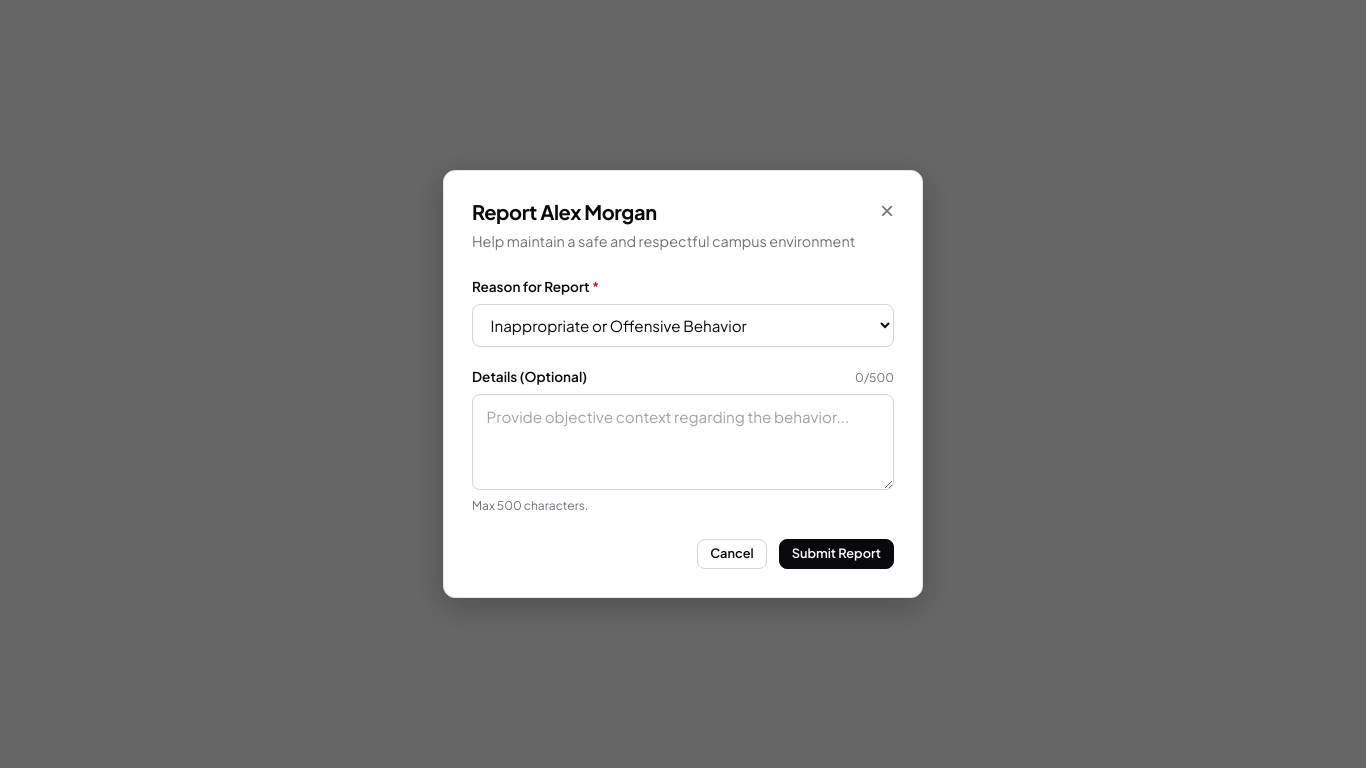
it: Modal Integration Tests › ReportModal › submits report with selected reason and description, showing success confirmation
Select "Harassment or Bullying" in the dropdown labelled "Reason for Report *" at (683, 326), box left=472, top=304, right=894, bottom=348
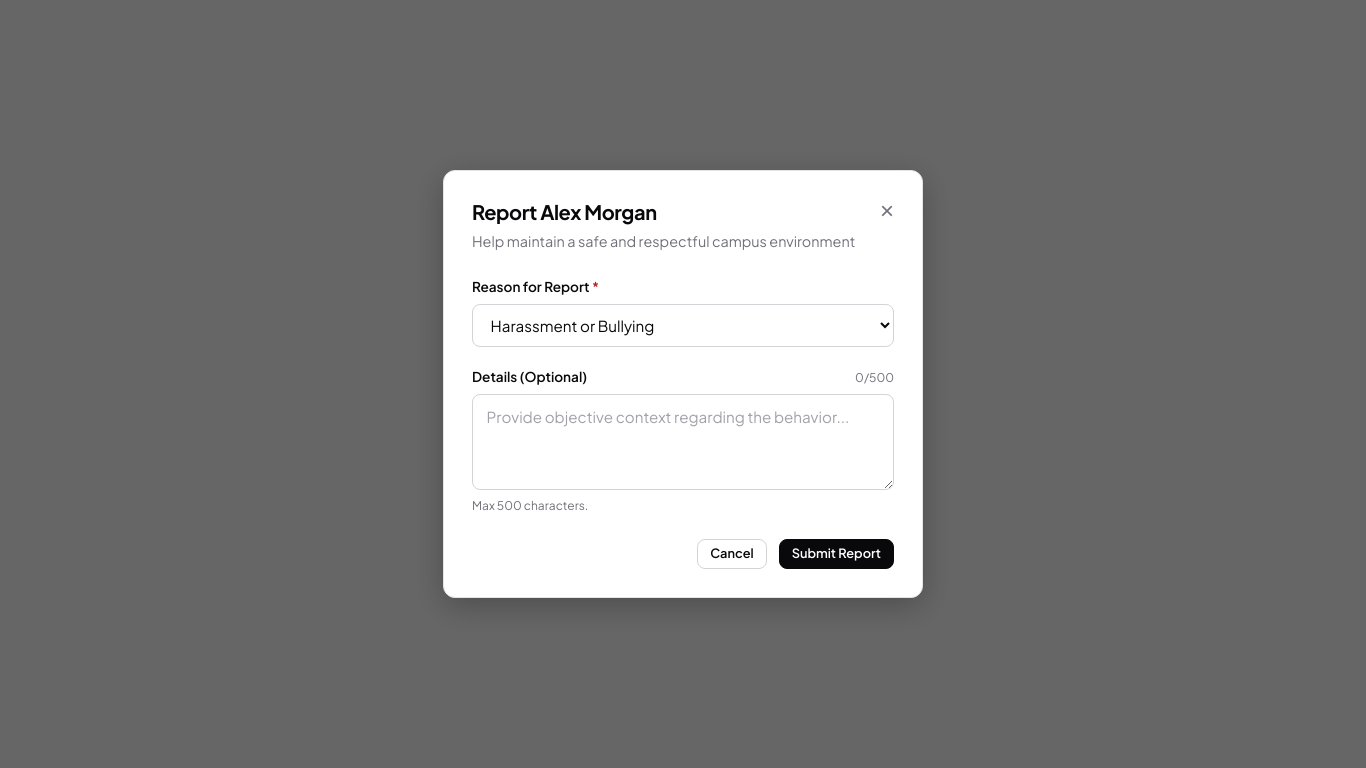
Type "Inappropriate messages sent." into the text box labelled "Details (Optional) 0/500" at (683, 442), box left=472, top=394, right=894, bottom=490
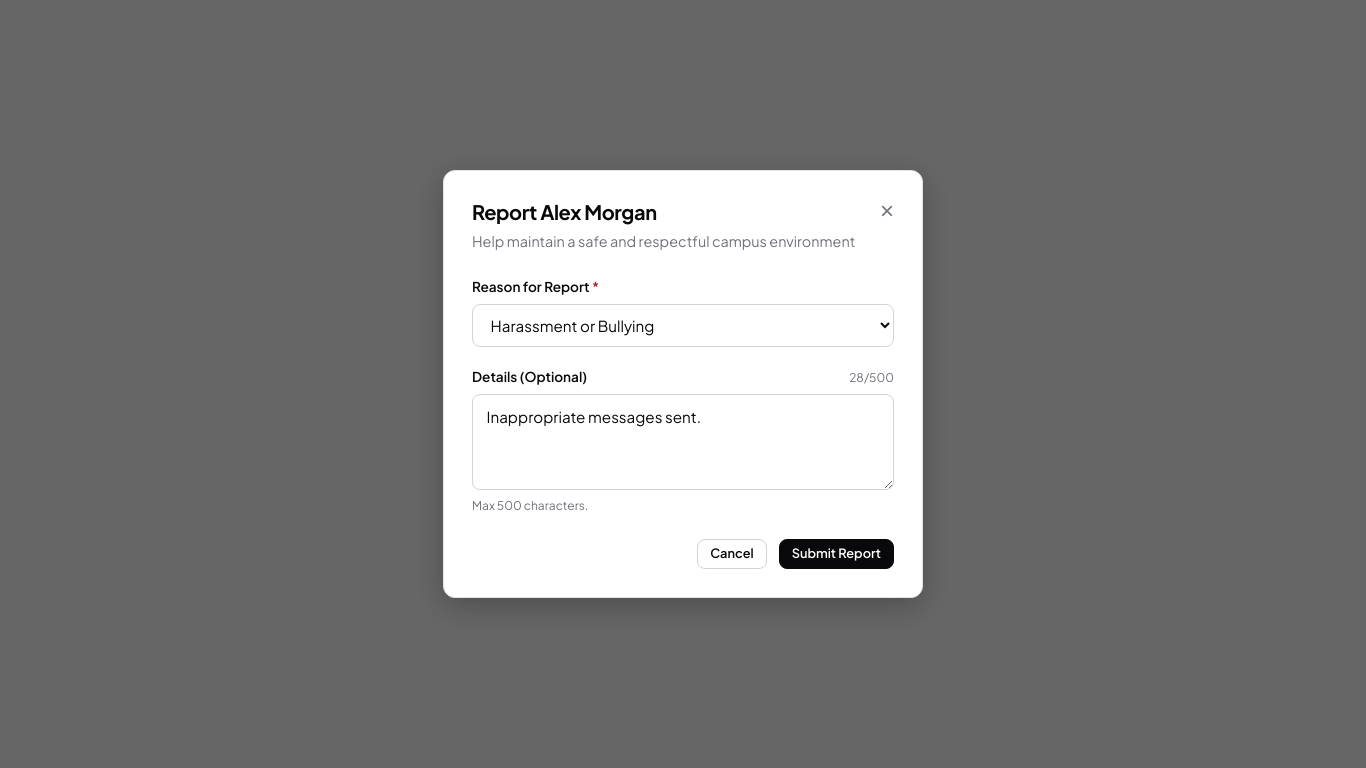
Click the button "Submit Report" at (836, 554), box left=779, top=539, right=894, bottom=569
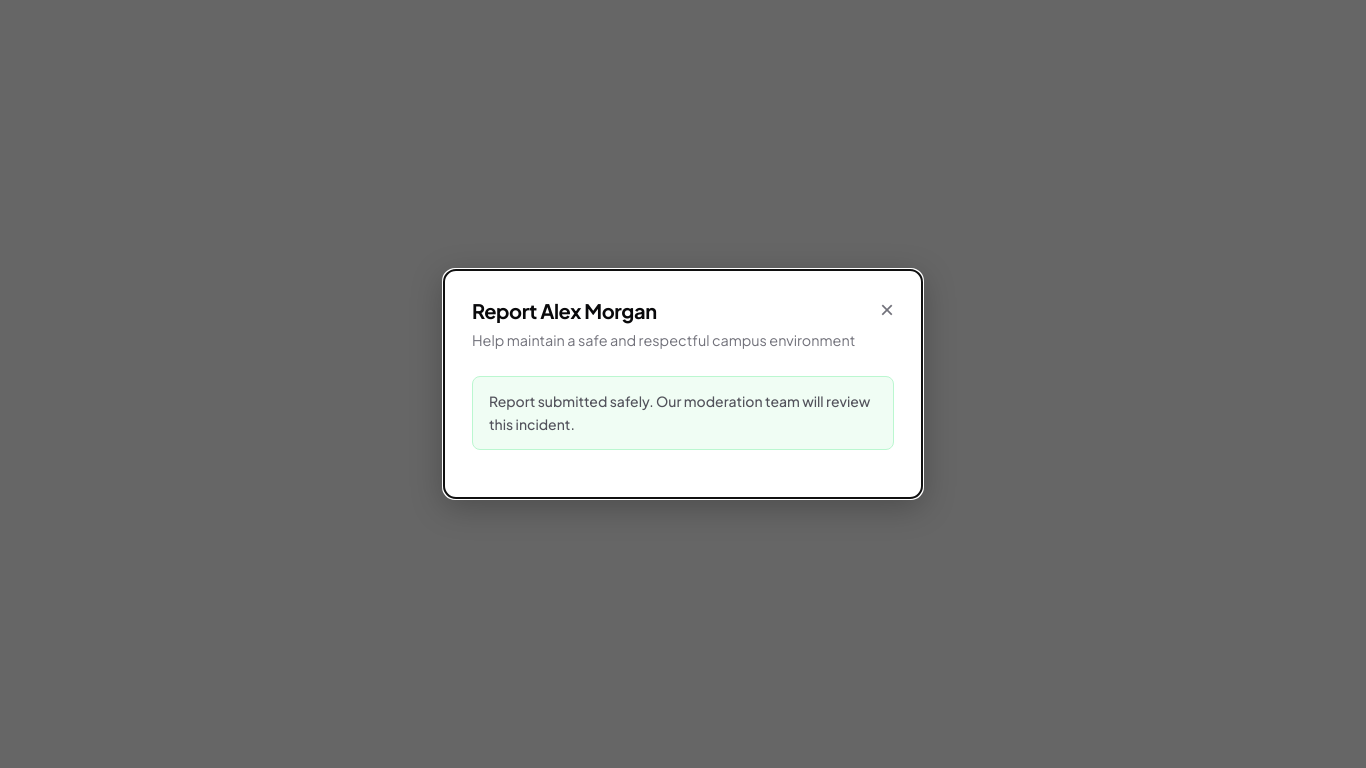
Expected: the text "Report submitted safely" is shown, left=489, top=392, right=870, bottom=433
